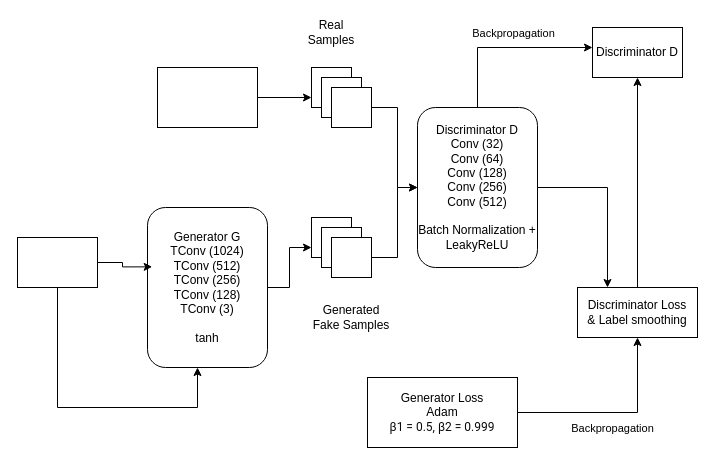
Image size: 715x465. Some labels were removed from this diagram. The shapes that lost their labels are listed below. From the top down, each one's centre as x and y in pixels, then its label:
At (207,97): "Training Data".
At (57,262): "Random Noide".
